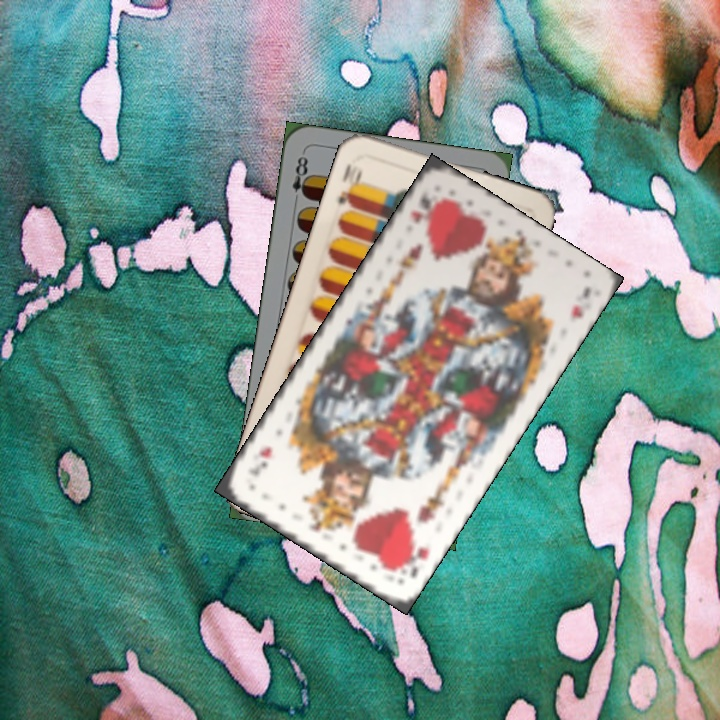E10: (333, 160, 365, 209)
E8: (288, 152, 313, 208)
HK: (391, 537, 432, 580), (407, 188, 435, 227)
